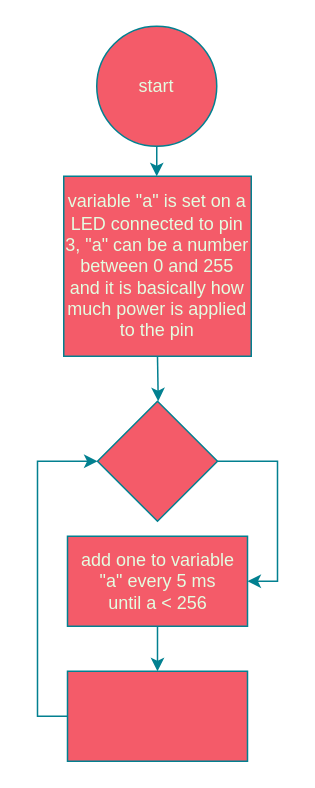
Image size: 315x788. Some labels were removed from this diagram. The centre of each missing label's shape, as x and y in pixels:
if a = 0: point 157,460
once "a" = 255 subtract 1 from "a" every 5 ms: point 157,715
